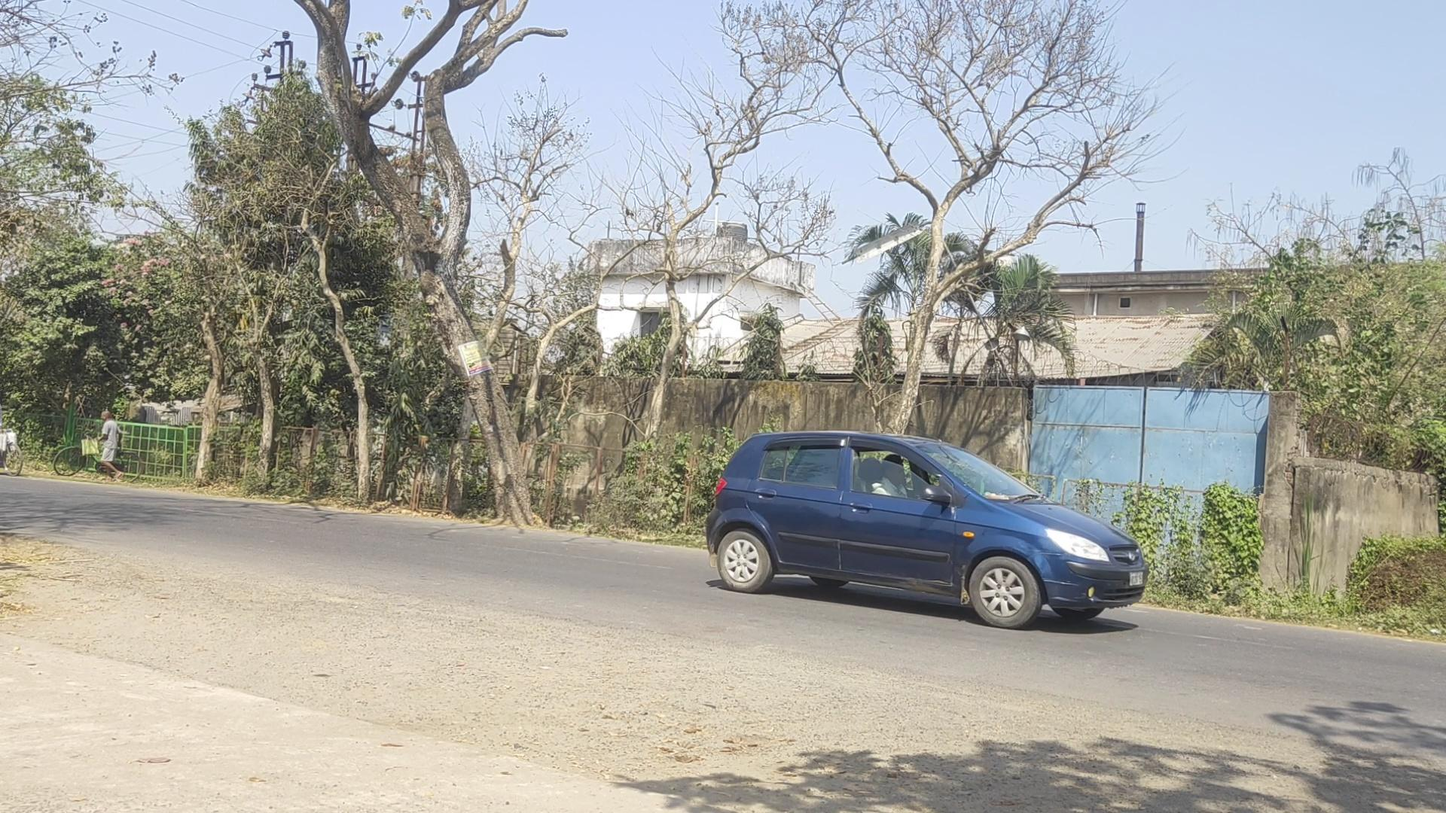bike: (53, 410, 142, 481)
car: (706, 431, 1149, 629)
